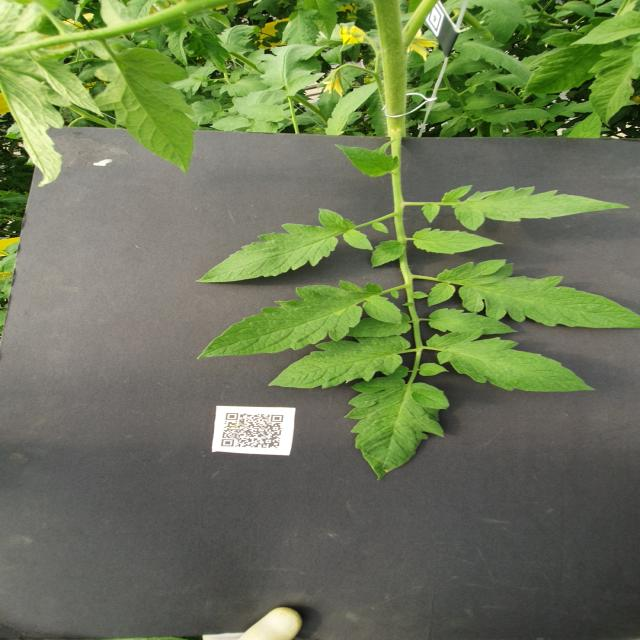Healthy Leaf: (196, 281, 403, 361), (428, 259, 640, 329), (92, 49, 200, 173), (197, 209, 374, 284), (427, 330, 597, 393), (346, 378, 448, 482), (443, 185, 630, 232), (1, 65, 65, 189), (269, 336, 411, 390), (523, 33, 623, 95), (588, 43, 640, 129), (456, 30, 534, 83), (260, 45, 323, 98), (326, 81, 378, 136), (570, 11, 640, 48), (414, 228, 505, 256), (431, 308, 519, 336), (335, 145, 400, 179), (299, 1, 340, 42), (193, 36, 234, 74), (281, 10, 323, 47), (162, 24, 194, 70), (478, 109, 555, 125), (372, 241, 408, 268), (466, 69, 504, 94), (238, 104, 285, 123), (464, 96, 508, 112), (210, 116, 252, 132), (441, 118, 469, 138), (425, 51, 447, 74)
